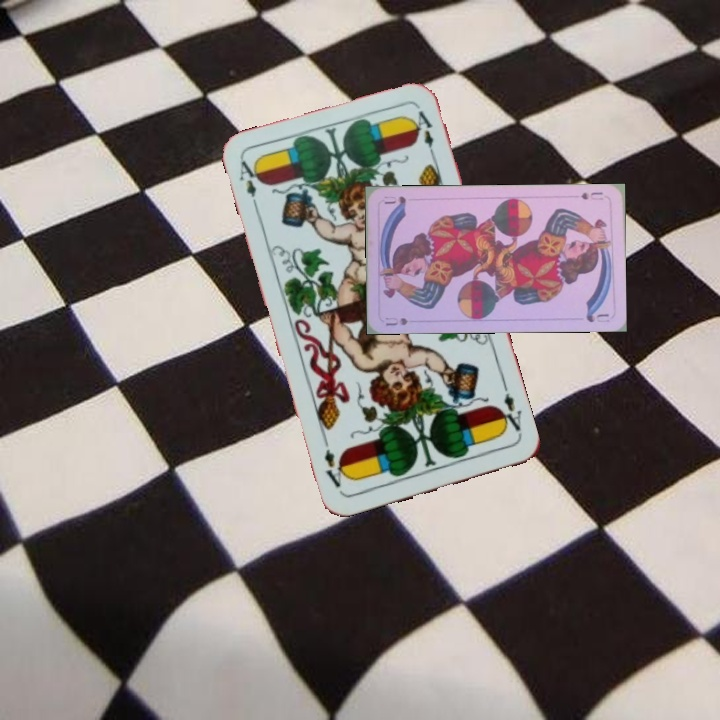EA: (494, 382, 525, 440), (235, 156, 265, 214)
SU: (381, 313, 410, 328), (577, 188, 605, 202)
